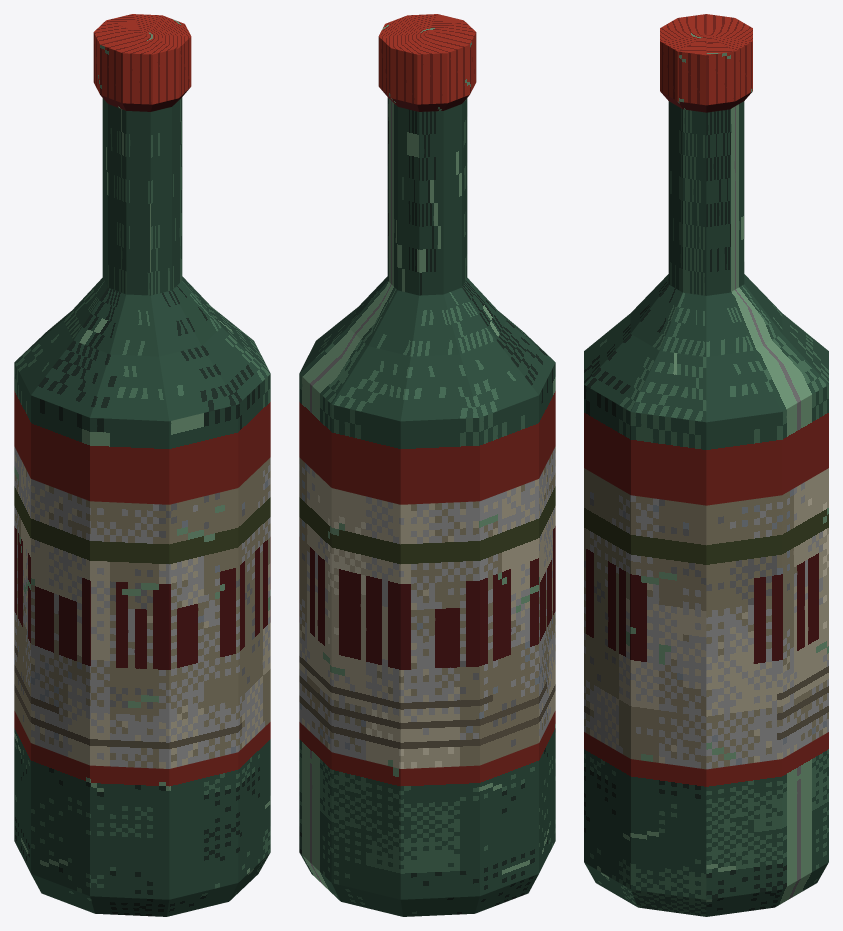
The model's file is SM_Bottle_Vodka_01.glb.
3 views of the same model, side by side, from view 1: azimuth 30°, elevation 25°; view 2: azimuth 150°, elevation 25°; view 3: azimuth 270°, elevation 25° (orthographic).
Parts seen in each view (by area): view 1: SM_Bottle_Vodka_01; view 2: SM_Bottle_Vodka_01; view 3: SM_Bottle_Vodka_01.
Boxes of the visible parts, x1,y1,x2,y2 form: SM_Bottle_Vodka_01: (14, 14, 270, 916); SM_Bottle_Vodka_01: (299, 14, 555, 916); SM_Bottle_Vodka_01: (584, 14, 828, 916).
Size of the model in its own units: 0.084 by 0.3 by 0.0799.
Materials: 1 (1 with a texture image).
